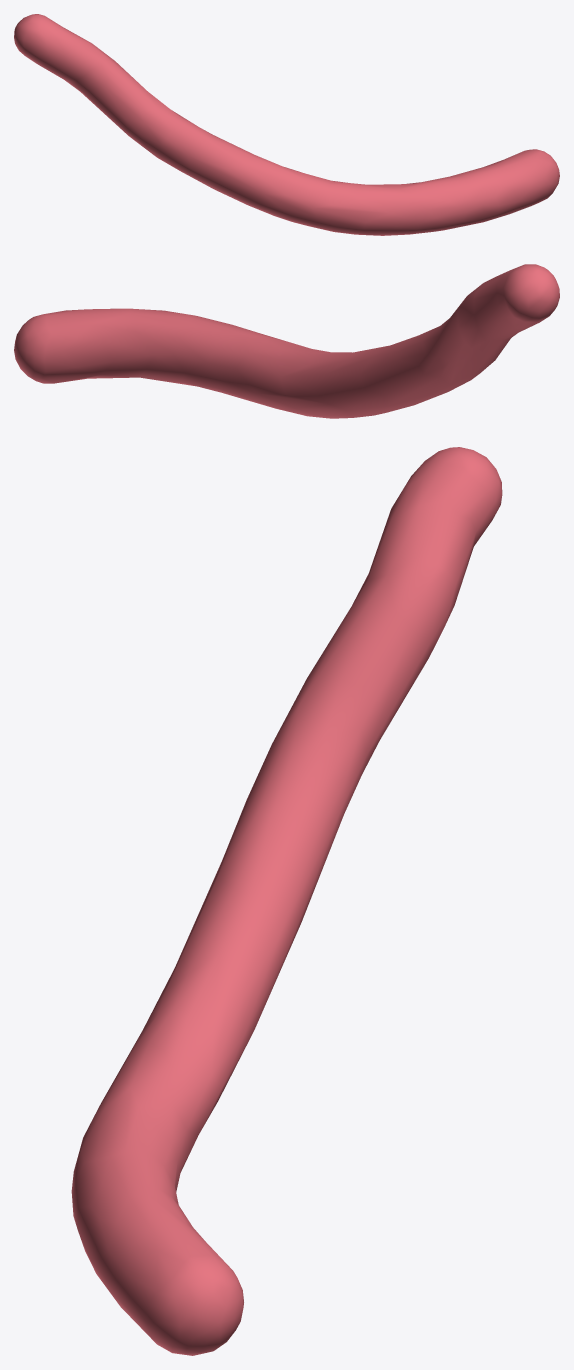
The model's file is fma50366_fj1692.glb.
3 renders of one model, top to bottom at view 1: azimuth 30°, elevation 25°; view 2: azimuth 150°, elevation 25°; view 3: azimuth 270°, elevation 25°, orthographic. The views are drawn at different scales.
Visible parts, largest first — view 1: FMA50366_FJ1692; view 2: FMA50366_FJ1692; view 3: FMA50366_FJ1692.
Part boxes in pixels (x1,y1,x2,y2): FMA50366_FJ1692: (14, 14, 559, 235); FMA50366_FJ1692: (14, 264, 559, 418); FMA50366_FJ1692: (71, 447, 502, 1355).
Size of the model in its own units: 0.0312 by 0.0151 by 0.0123.
